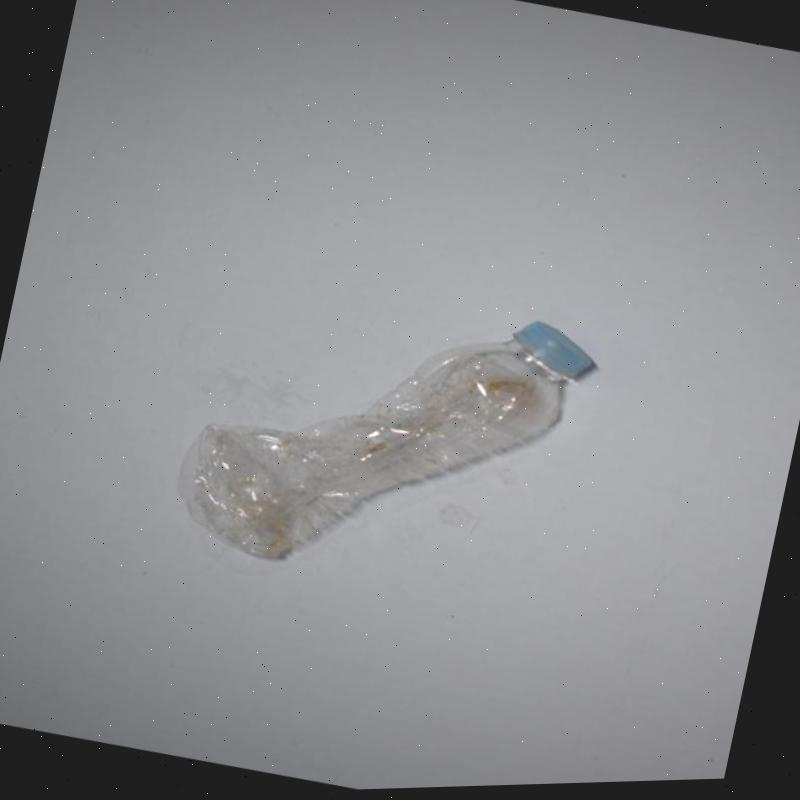botella: (162, 254, 604, 627)
